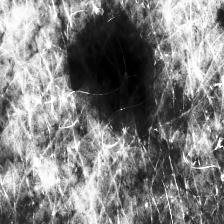Benign Marking or Mole: (64, 7, 159, 127)
